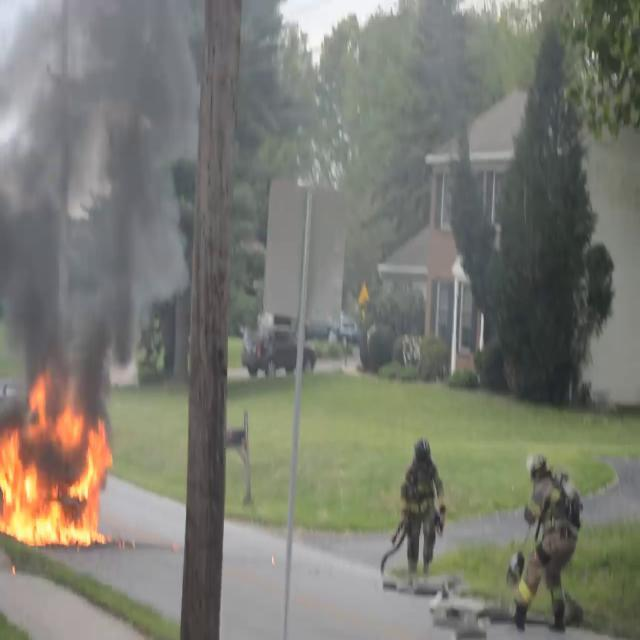Fire: (0, 380, 114, 550)
Smoke: (0, 0, 198, 403)
